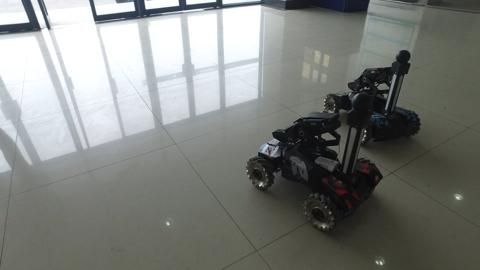chariot: (238, 90, 390, 239), (323, 44, 424, 153)
